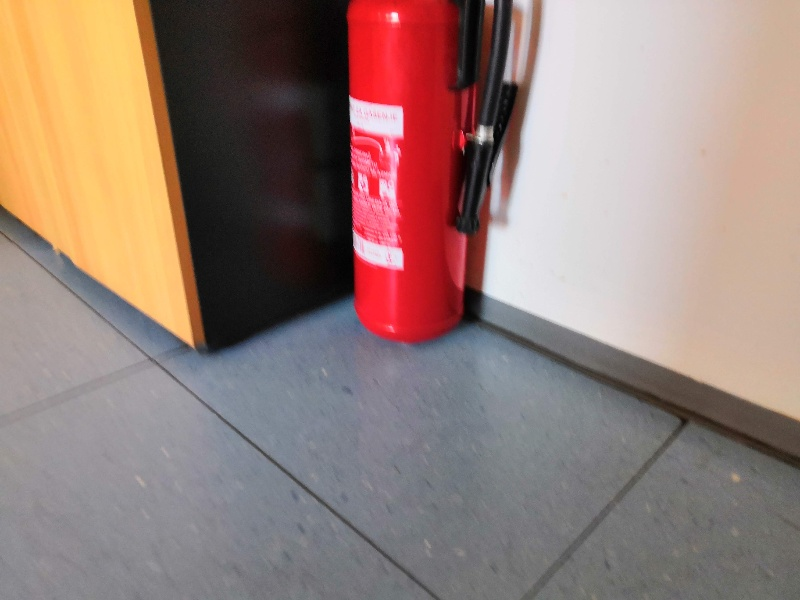vataparat: (342, 1, 517, 338)
